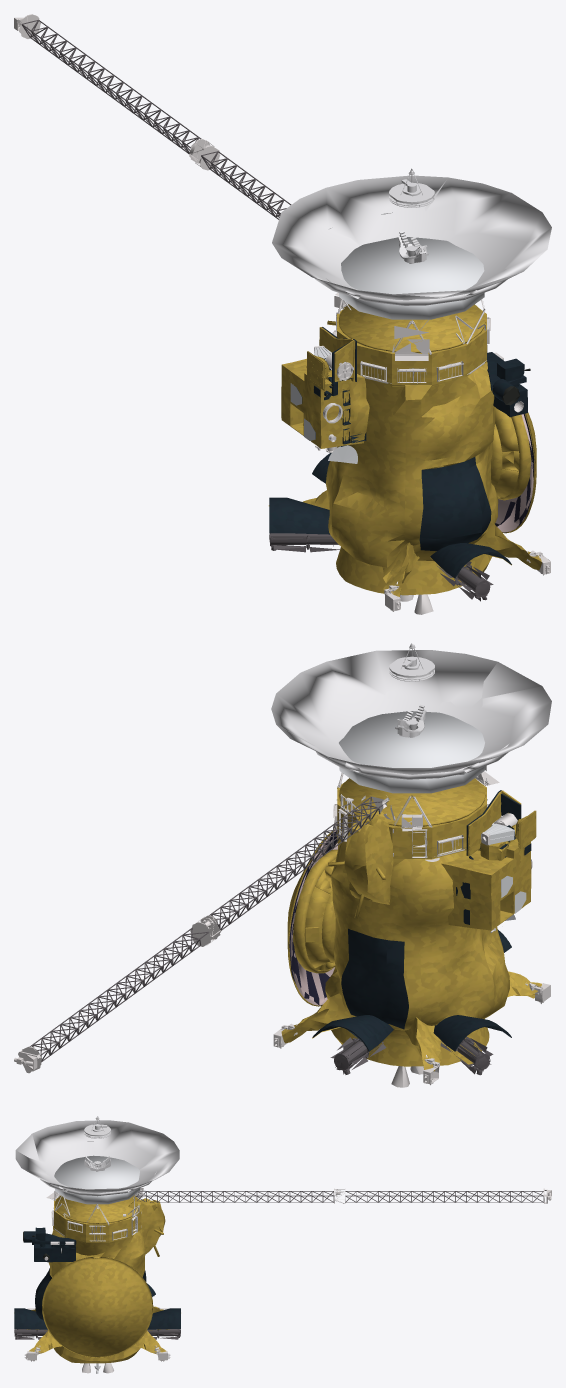
File: cassini.glb
The picture shows the model from 3 angles, top to bottom: view 1: azimuth 30°, elevation 25°; view 2: azimuth 150°, elevation 25°; view 3: azimuth 270°, elevation 25°; orthographic projection. The views are drawn at different scales.
Visible parts, largest first — view 1: acp, antenna_cap_1, fpp; view 2: acp, antenna_cap_1, fpp; view 3: antenna_cap_1, acp, fpp.
Part boxes in pixels (box(x1,y1,x2,y2)): acp: box(14, 14, 551, 614); antenna_cap_1: box(268, 304, 541, 596); fpp: box(269, 327, 527, 578); acp: box(14, 643, 551, 1087); antenna_cap_1: box(281, 778, 541, 1071); fpp: box(312, 790, 531, 1051); antenna_cap_1: box(26, 1195, 169, 1363); acp: box(14, 1116, 551, 1373); fpp: box(14, 1227, 180, 1329).
Size of the model in its own units: 3.99 by 6.86 by 13.1.
4 materials, 4 textured.
